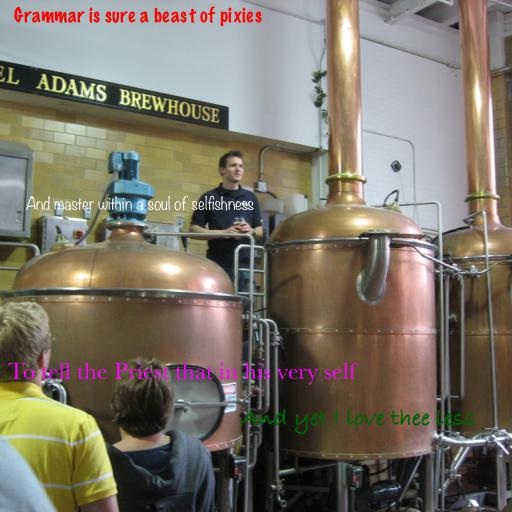Baskerville: (8, 362, 356, 385)
Bradley Hand: (241, 408, 475, 434)
Marker Felt: (14, 6, 262, 27)
Noteworthy: (26, 195, 254, 211)
